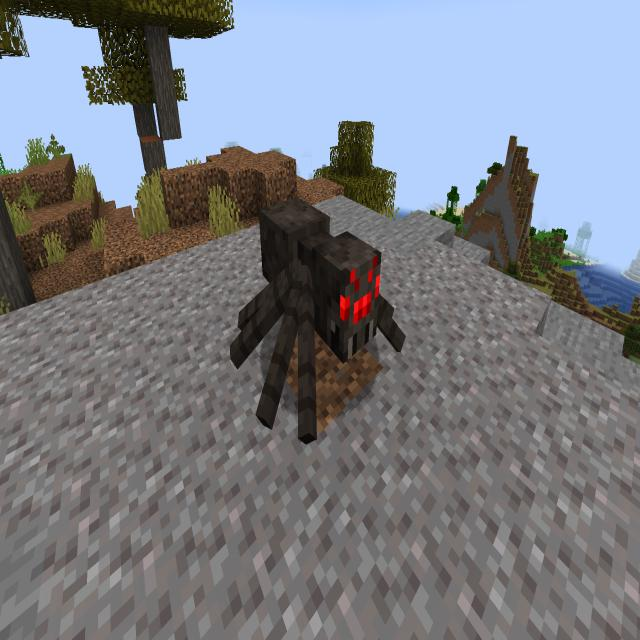Spider: (223, 188, 411, 455)
